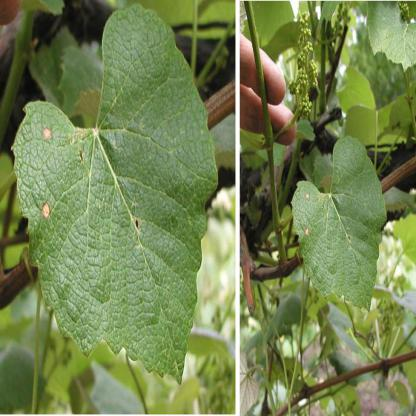grape leaf black rot: (14, 6, 216, 385), (288, 131, 386, 316)
